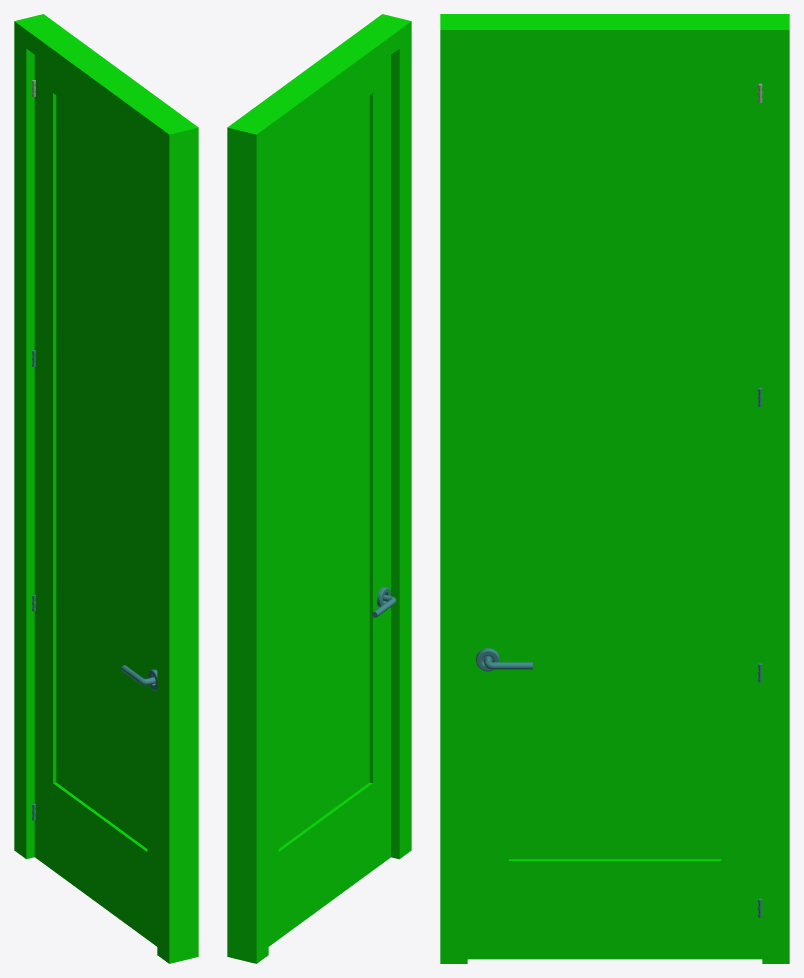
3 renders of one model, left to right at view 1: azimuth 30°, elevation 25°; view 2: azimuth 150°, elevation 25°; view 3: azimuth 270°, elevation 25°, orthographic. The views are drawn at different scales.
Visible parts, largest first — view 1: polySurface163_polySurface165_polySurface165_polySurface165_; view 2: polySurface163_polySurface165_polySurface165_polySurface165_; view 3: polySurface163_polySurface165_polySurface165_polySurface165_.
Boxes of the visible parts, x1,y1,x2,y2 form: polySurface163_polySurface165_polySurface165_polySurface165_: (14,14,198,963); polySurface163_polySurface165_polySurface165_polySurface165_: (227,14,411,963); polySurface163_polySurface165_polySurface165_polySurface165_: (440,14,789,963).
Size of the model in its own units: 16.62 by 304 by 103.
